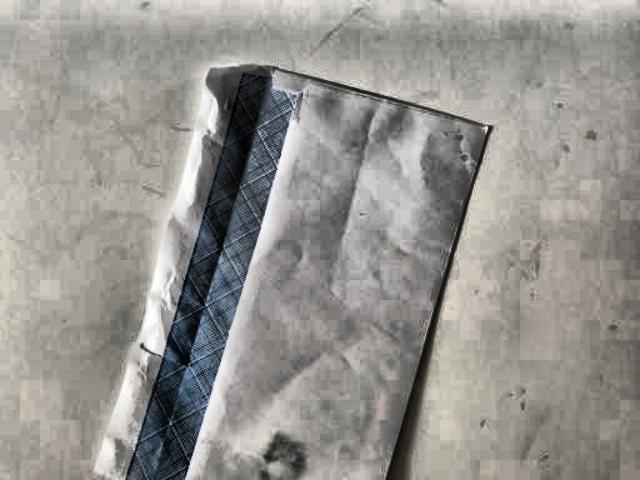Paper: (109, 62, 484, 480)
